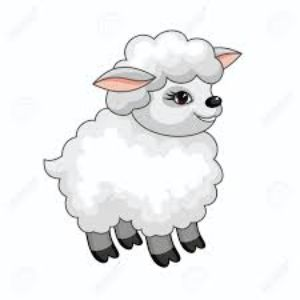sheep: (40, 29, 245, 267)
